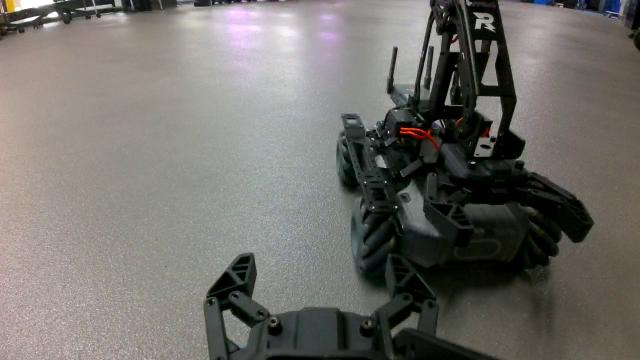robot: (335, 0, 595, 284)
